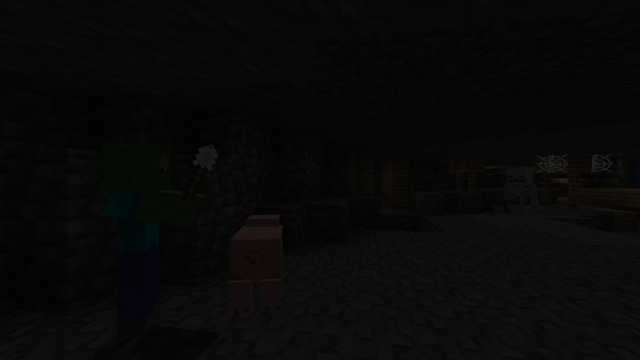cochons: (213, 223, 297, 309)
squelettes: (503, 166, 537, 236)
zombies: (89, 146, 181, 342)
